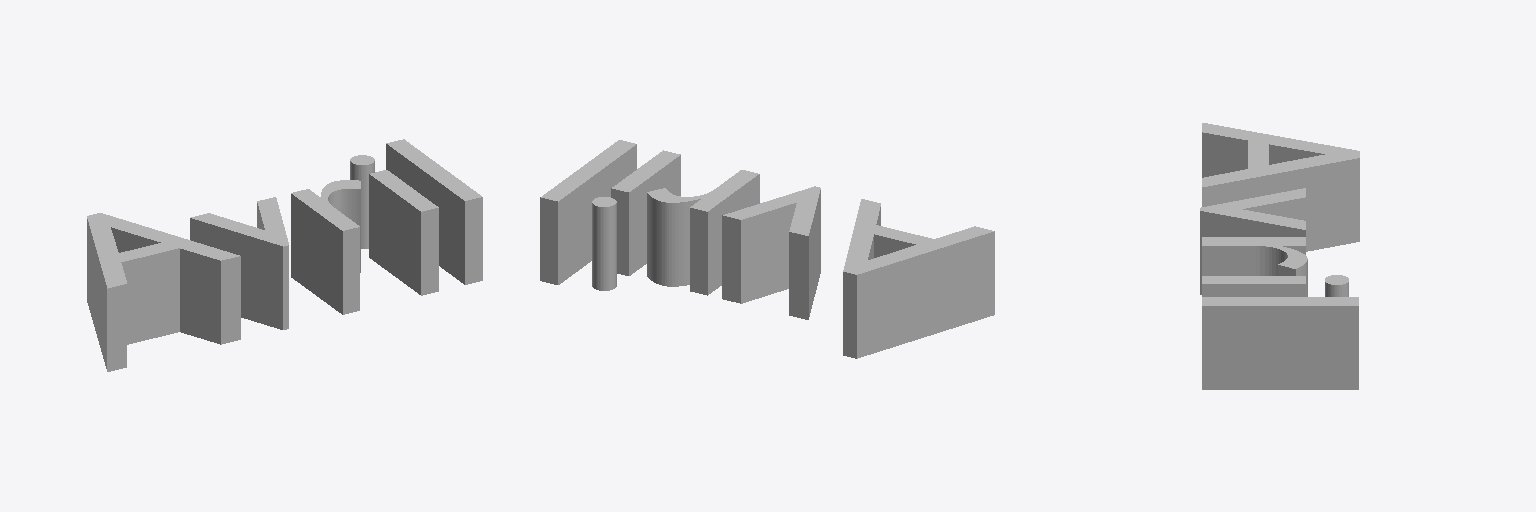
Rendered from date_avril.obj.
3 views of the same model, side by side, from view 1: azimuth 30°, elevation 25°; view 2: azimuth 150°, elevation 25°; view 3: azimuth 270°, elevation 25° (orthographic).
Parts seen in each view (by area): view 1: Text; view 2: Text; view 3: Text.
Part boxes in pixels (left/top/right/bottom): Text: left=87, top=139, right=482, bottom=371; Text: left=540, top=140, right=994, bottom=358; Text: left=1200, top=123, right=1359, bottom=389.
Size of the model in its own units: 1.87 by 0.4 by 0.695.